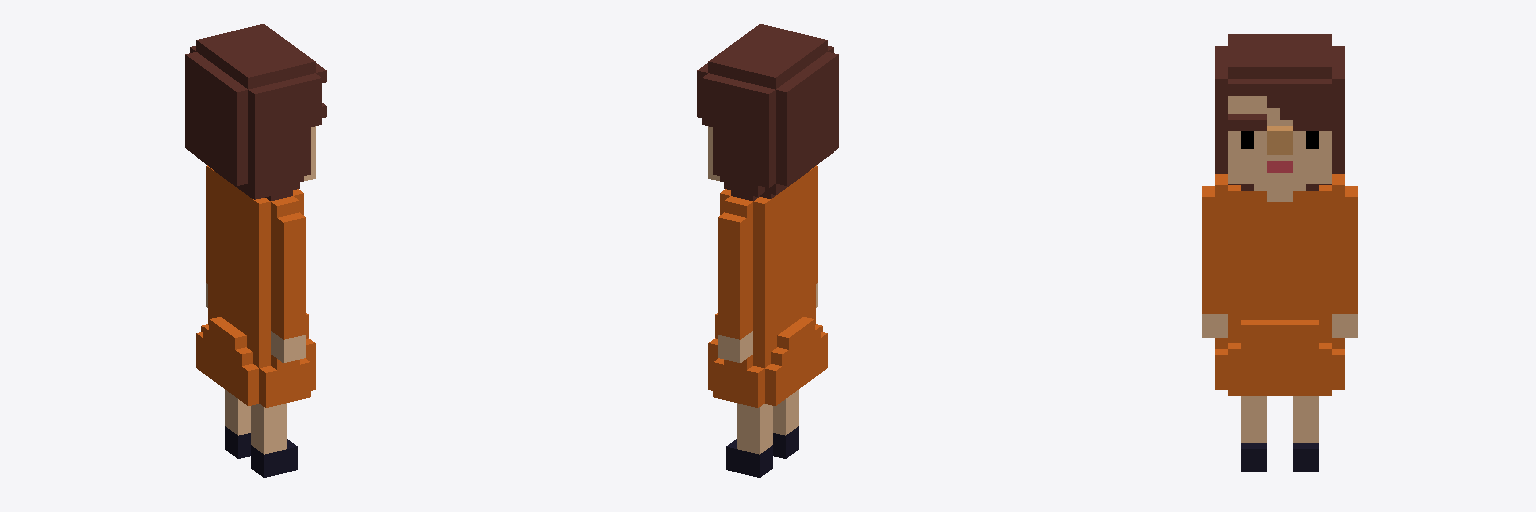
3 views of the same model, side by side, from view 1: azimuth 30°, elevation 25°; view 2: azimuth 150°, elevation 25°; view 3: azimuth 270°, elevation 25° (orthographic).
Parts seen in each view (by area): view 1: object 1; view 2: object 1; view 3: object 1.
Boxes of the visible parts, <box> form: object 1: <box>185,24,326,477</box>; object 1: <box>697,24,838,477</box>; object 1: <box>1202,34,1357,471</box>.
Bounding box in the file's own units: 0.8 × 3.5 × 1.2.
Materials: 1 (1 with a texture image).